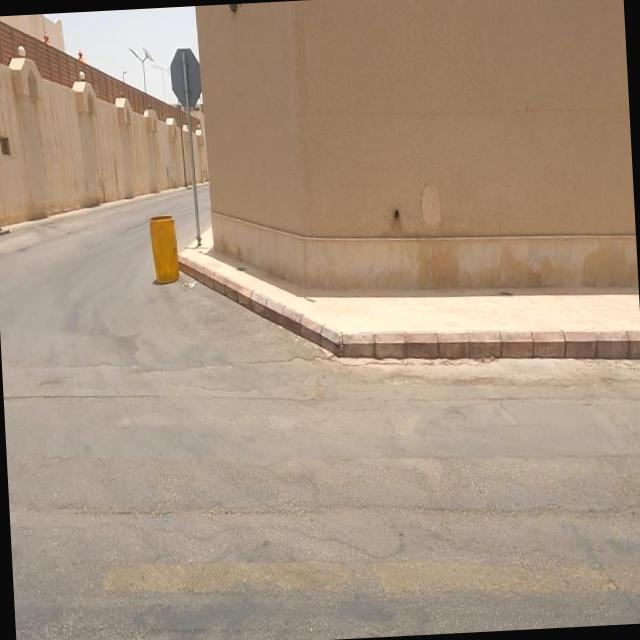debris: (170, 239, 220, 325)
